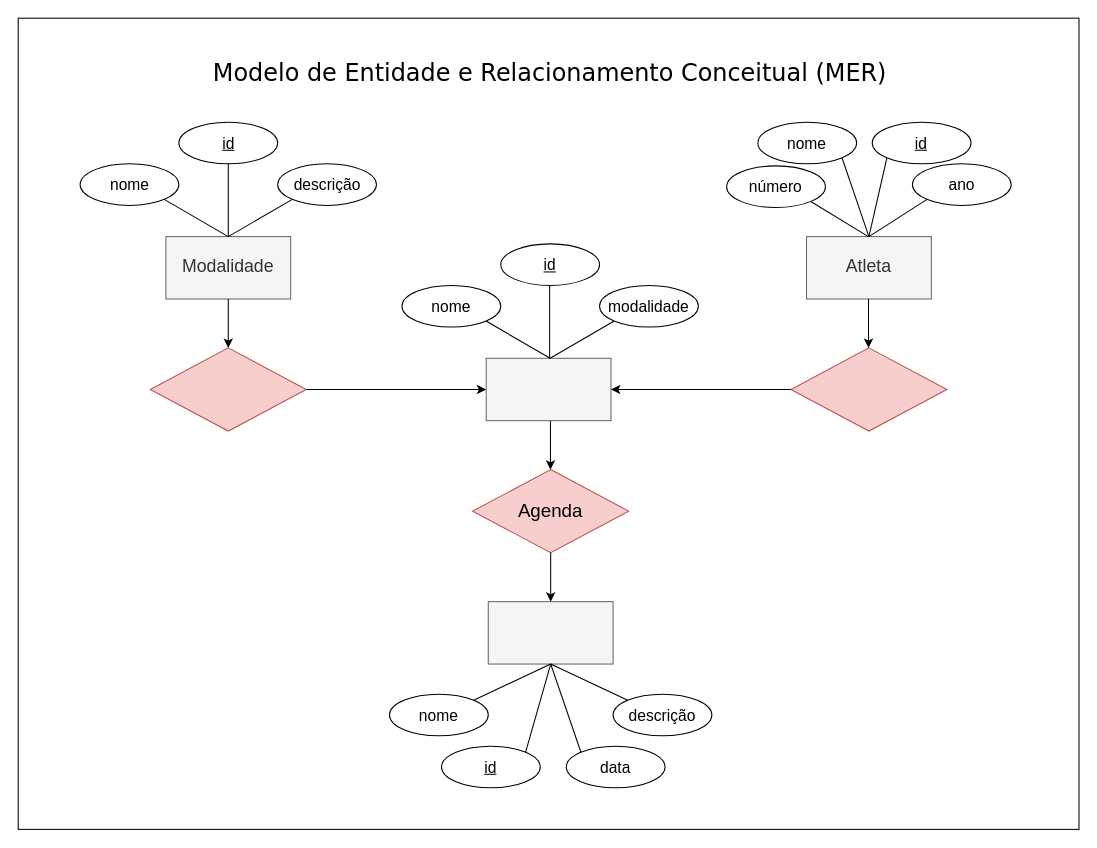
Image size: 1097x848. Some labels were removed from this diagram. Here are the shapes that lost their labels. From the top down, the centre of each, then its label:
the point at 227,389: Classifica
the point at 548,389: Elenco
the point at 868,389: Compõe
the point at 550,632: Calendário
